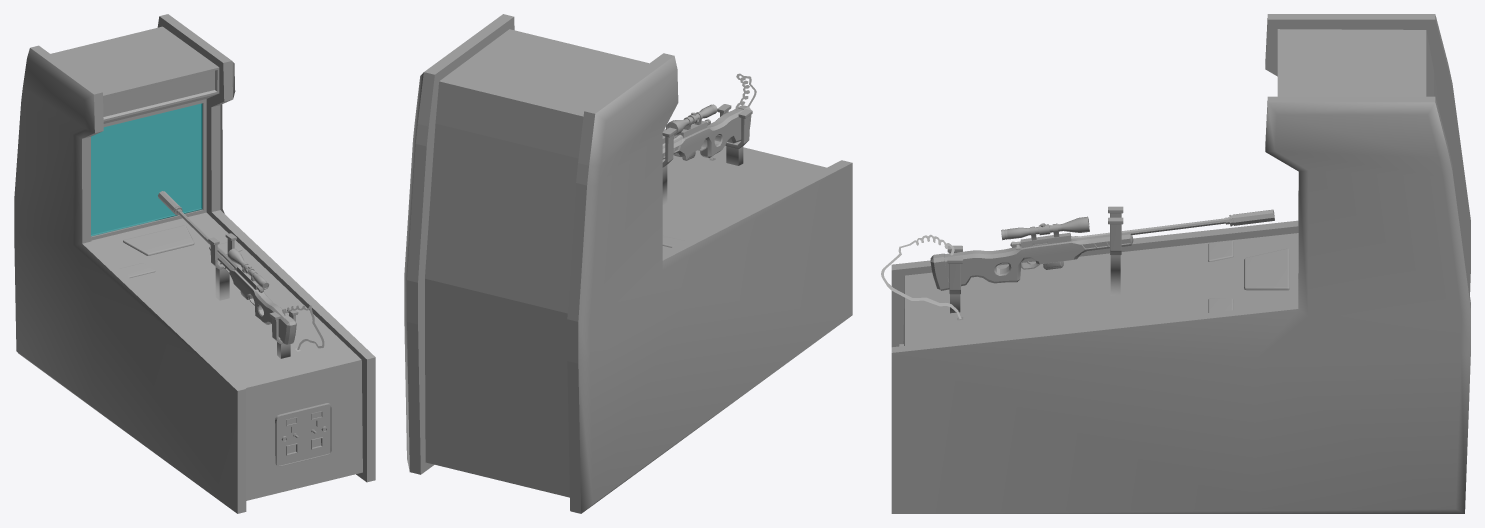
File: outdoor game.fbx
3 renders of one model, left to right at view 1: azimuth 30°, elevation 25°; view 2: azimuth 150°, elevation 25°; view 3: azimuth 270°, elevation 25°, orthographic. The views are drawn at different scales.
Visible parts, largest first — view 1: pCube4, polySurface40, body, polySurface54, polySurface60, polySurface112, scope; view 2: pCube4, body, polySurface112, polySurface60, scope; view 3: pCube4, body, polySurface54, polySurface60, scope, polySurface112, polySurface62.
Part boxes in pixels (left/top/right/bottom): pCube4: left=14, top=14, right=375, bottom=513; polySurface40: left=275, top=403, right=332, bottom=467; body: left=178, top=211, right=296, bottom=344; polySurface54: left=123, top=225, right=194, bottom=255; polySurface60: left=208, top=233, right=236, bottom=300; polySurface112: left=269, top=308, right=298, bottom=358; scope: left=227, top=248, right=269, bottom=289; pCube4: left=404, top=14, right=852, bottom=513; body: left=662, top=105, right=751, bottom=159; polySurface112: left=717, top=104, right=752, bottom=165; polySurface60: left=662, top=127, right=676, bottom=204; scope: left=666, top=104, right=717, bottom=135; pCube4: left=891, top=14, right=1470, bottom=513; body: left=930, top=218, right=1225, bottom=290; polySurface54: left=1244, top=248, right=1289, bottom=290; polySurface60: left=1108, top=206, right=1123, bottom=295; scope: left=1001, top=216, right=1089, bottom=240; polySurface112: left=947, top=245, right=962, bottom=313; polySurface62: left=881, top=234, right=961, bottom=318.
Size of the model in its own units: 1.14 by 2.29 by 2.98.
